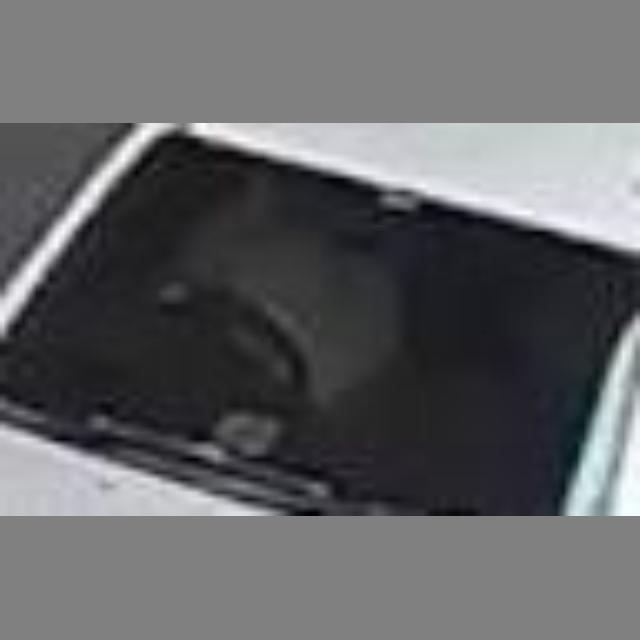tidak-pakai: (173, 190, 387, 423)
